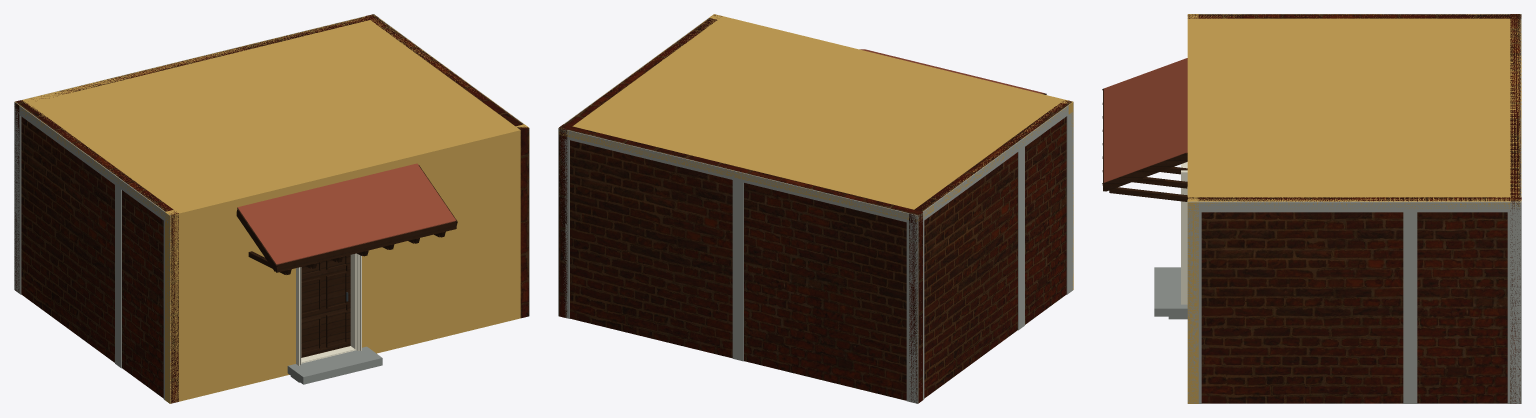
File: building.glb
3 renders of one model, left to right at view 1: azimuth 30°, elevation 25°; view 2: azimuth 150°, elevation 25°; view 3: azimuth 270°, elevation 25°, orthographic. The views are drawn at different scales.
Visible parts, largest first — view 1: roof/house:0/roof_slab#0001, house:0/edge0/z0/house:0/edge0/z0/wall_0_0, house:0/edge3/z0/house:0/edge3/z0/wall_0_0, roof_assembly/marquesina/roof_cover#0001, house:0/edge1/z0/house:0/edge1/z0/wall_0_0, house:0/edge2/z0/house:0/edge2/z0/wall_0_0, site/entrance/0/entrance_step#0002, house:0/edge3/z0/house:0/edge3/z0/beam_0_0, roof_assembly/marquesina/roof_fascia#0002, house:0/edge3/z0/house:0/edge3/z0/column_0_0, house:0/edge3/z0/house:0/edge3/z0/column_2_0, house:0/edge0/z0/opening_u2.80_v0.12/door_panel_back#0001 (+8 smaller); view 2: house:0/edge2/z0/house:0/edge2/z0/wall_0_0, roof/house:0/roof_slab#0001, house:0/edge3/z0/house:0/edge3/z0/wall_0_0, house:0/edge2/z0/house:0/edge2/z0/beam_0_0, house:0/edge1/z0/house:0/edge1/z0/wall_0_0, house:0/edge2/z0/house:0/edge2/z0/column_1_0, house:0/edge2/z0/house:0/edge2/z0/column_2_0, house:0/edge0/z0/house:0/edge0/z0/wall_0_0, house:0/edge3/z0/house:0/edge3/z0/beam_0_0, house:0/edge3/z0/house:0/edge3/z0/column_1_0, house:0/edge3/z0/house:0/edge3/z0/column_2_0, house:0/edge2/z0/house:0/edge2/z0/column_0_0 (+1 smaller); view 3: roof/house:0/roof_slab#0001, house:0/edge1/z0/house:0/edge1/z0/wall_0_0, roof_assembly/marquesina/roof_cover#0001, house:0/edge0/z0/house:0/edge0/z0/wall_0_0, house:0/edge1/z0/house:0/edge1/z0/beam_0_0, house:0/edge1/z0/house:0/edge1/z0/column_1_0, house:0/edge1/z0/house:0/edge1/z0/column_2_0, house:0/edge2/z0/house:0/edge2/z0/wall_0_0, house:0/edge1/z0/house:0/edge1/z0/column_0_0, house:0/edge3/z0/house:0/edge3/z0/wall_0_0, site/entrance/0/entrance_step#0002, house:0/edge0/z0/opening_u2.80_v0.12/door_moulding#0028 (+3 smaller).
Boxes of the visible parts, x1,y1,x2,y2 form: roof/house:0/roof_slab#0001: (15, 15, 521, 221); house:0/edge0/z0/house:0/edge0/z0/wall_0_0: (165, 124, 529, 403); house:0/edge3/z0/house:0/edge3/z0/wall_0_0: (15, 100, 178, 403); roof_assembly/marquesina/roof_cover#0001: (237, 163, 456, 264); house:0/edge1/z0/house:0/edge1/z0/wall_0_0: (365, 14, 528, 318); house:0/edge2/z0/house:0/edge2/z0/wall_0_0: (14, 14, 378, 291); site/entrance/0/entrance_step#0002: (287, 346, 382, 384); house:0/edge3/z0/house:0/edge3/z0/beam_0_0: (14, 102, 170, 224); roof_assembly/marquesina/roof_fascia#0002: (276, 221, 456, 272); house:0/edge3/z0/house:0/edge3/z0/column_0_0: (14, 112, 21, 294); house:0/edge3/z0/house:0/edge3/z0/column_2_0: (115, 185, 121, 368); house:0/edge0/z0/opening_u2.80_v0.12/door_panel_back#0001: (301, 261, 345, 348); house:0/edge2/z0/house:0/edge2/z0/wall_0_0: (559, 124, 922, 403); roof/house:0/roof_slab#0001: (558, 15, 1072, 221); house:0/edge3/z0/house:0/edge3/z0/wall_0_0: (909, 100, 1072, 403); house:0/edge2/z0/house:0/edge2/z0/beam_0_0: (558, 128, 918, 224); house:0/edge1/z0/house:0/edge1/z0/wall_0_0: (559, 14, 721, 318); house:0/edge2/z0/house:0/edge2/z0/column_1_0: (906, 222, 918, 403); house:0/edge2/z0/house:0/edge2/z0/column_2_0: (732, 180, 743, 361); house:0/edge0/z0/house:0/edge0/z0/wall_0_0: (709, 14, 1073, 289); house:0/edge3/z0/house:0/edge3/z0/beam_0_0: (917, 102, 1073, 223); house:0/edge3/z0/house:0/edge3/z0/column_1_0: (1066, 112, 1073, 294); house:0/edge3/z0/house:0/edge3/z0/column_2_0: (1018, 147, 1024, 330); house:0/edge2/z0/house:0/edge2/z0/column_0_0: (558, 138, 569, 318); roof/house:0/roof_slab#0001: (1187, 14, 1521, 209); house:0/edge1/z0/house:0/edge1/z0/wall_0_0: (1187, 197, 1521, 403); roof_assembly/marquesina/roof_cover#0001: (1104, 58, 1187, 182); house:0/edge0/z0/house:0/edge0/z0/wall_0_0: (1187, 14, 1198, 403); house:0/edge1/z0/house:0/edge1/z0/beam_0_0: (1187, 201, 1521, 212); house:0/edge1/z0/house:0/edge1/z0/column_1_0: (1507, 212, 1521, 403); house:0/edge1/z0/house:0/edge1/z0/column_2_0: (1403, 212, 1417, 403); house:0/edge2/z0/house:0/edge2/z0/wall_0_0: (1510, 14, 1520, 403); house:0/edge1/z0/house:0/edge1/z0/column_0_0: (1187, 212, 1201, 403); house:0/edge3/z0/house:0/edge3/z0/wall_0_0: (1187, 14, 1521, 18); site/entrance/0/entrance_step#0002: (1154, 267, 1187, 316); house:0/edge0/z0/opening_u2.80_v0.12/door_moulding#0028: (1181, 162, 1187, 304).
Size of the model in its own units: 8 by 4.04 by 7.53.
Materials: 8 (2 with a texture image).
